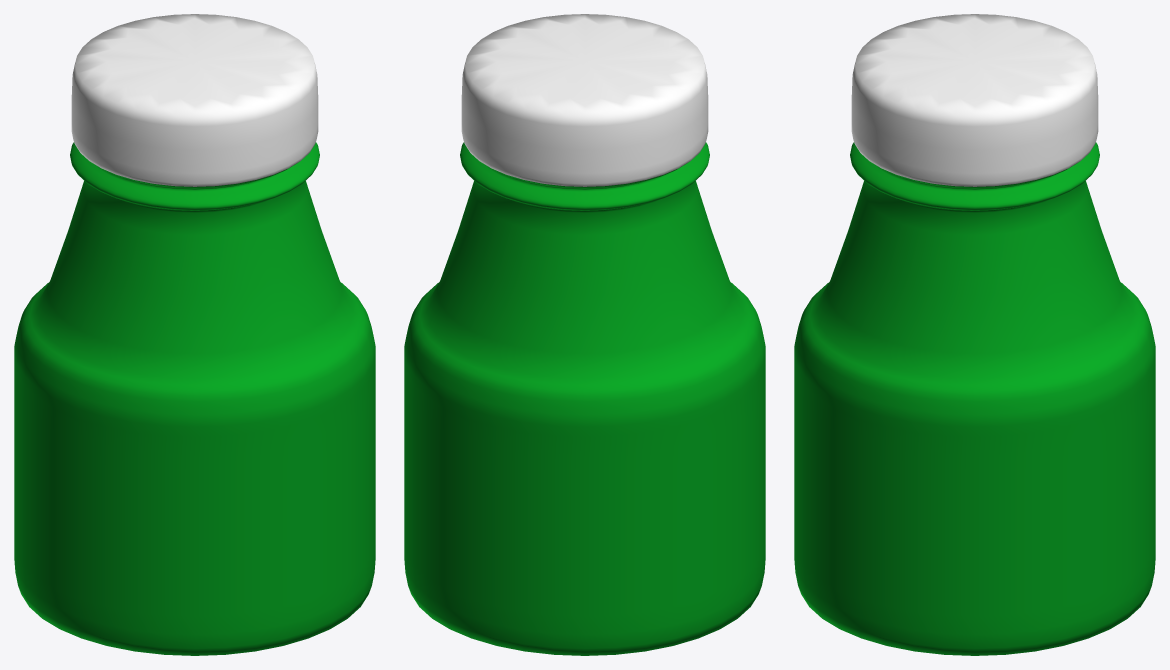
Rendered from Relish Bottle.FBX.
3 views of the same model, side by side, from view 1: azimuth 30°, elevation 25°; view 2: azimuth 150°, elevation 25°; view 3: azimuth 270°, elevation 25° (orthographic).
Visible parts, largest first — view 1: Cylinder001; view 2: Cylinder001; view 3: Cylinder001.
Boxes of the visible parts, <box> form: Cylinder001: <box>14,14,375,655</box>; Cylinder001: <box>404,14,765,655</box>; Cylinder001: <box>794,14,1155,655</box>.
Size of the model in its own units: 35.48 by 35.48 by 57.02.
1 material, 1 textured.
